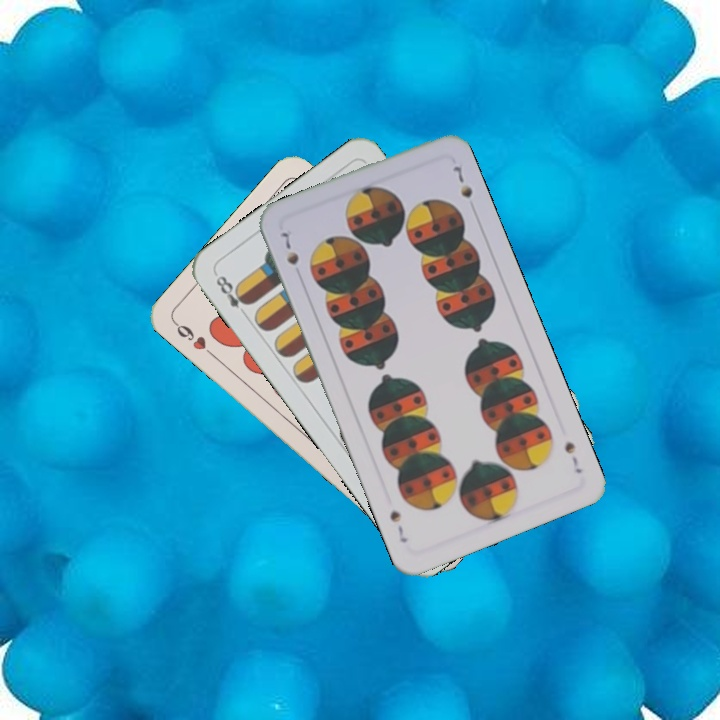E8: (211, 269, 253, 321)
H9: (170, 318, 219, 361)
S7: (277, 228, 302, 268), (560, 437, 585, 476)
